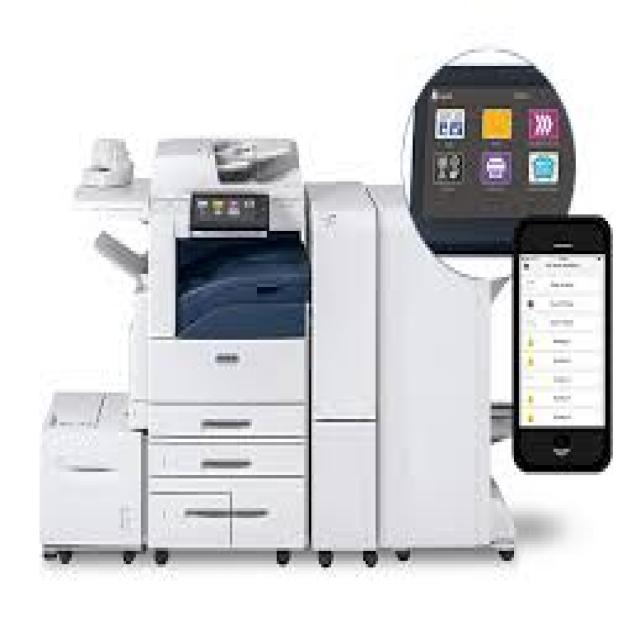printer: (24, 28, 623, 616)
